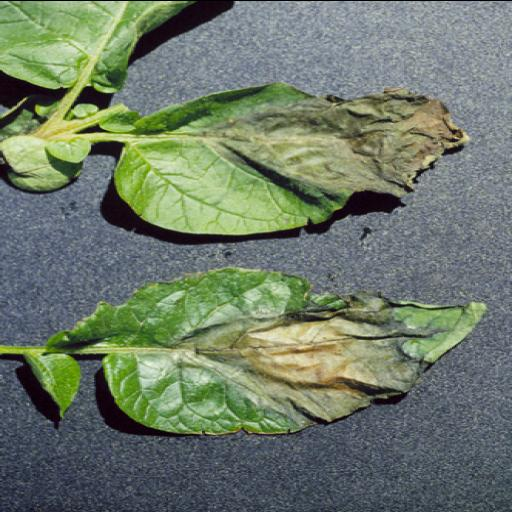Late Blight: (29, 260, 495, 439), (104, 76, 474, 236)
